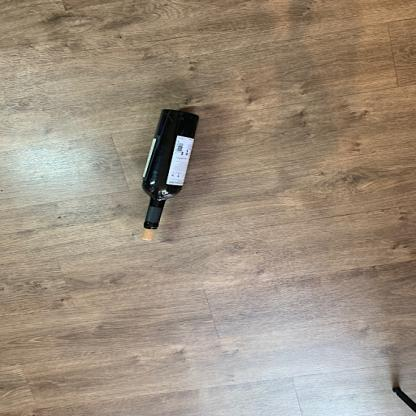trash: (136, 110, 204, 232)
